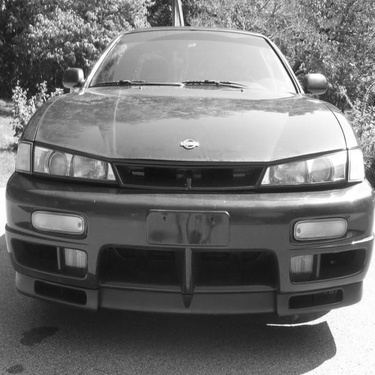car: (5, 19, 372, 327)
